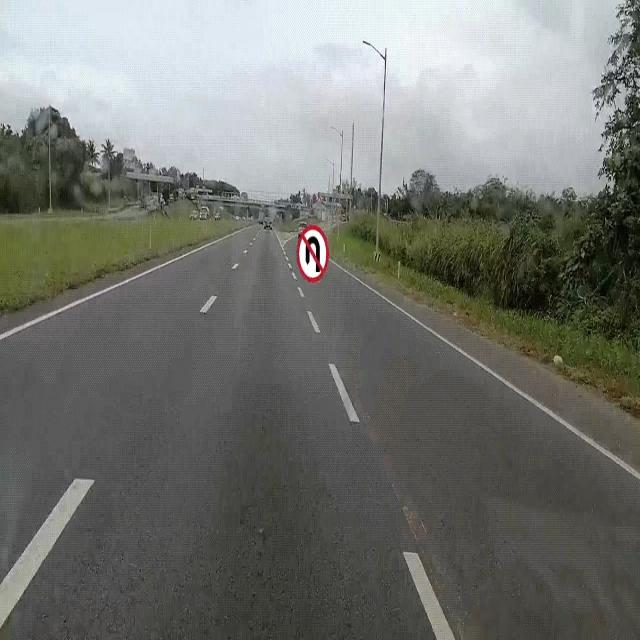Demi-Tour-Interdit: (295, 222, 331, 286)
